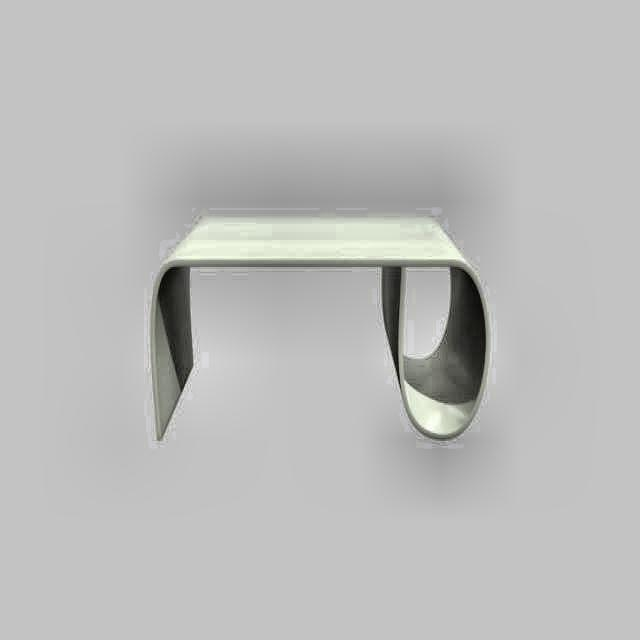mesa: (152, 212, 492, 439)
